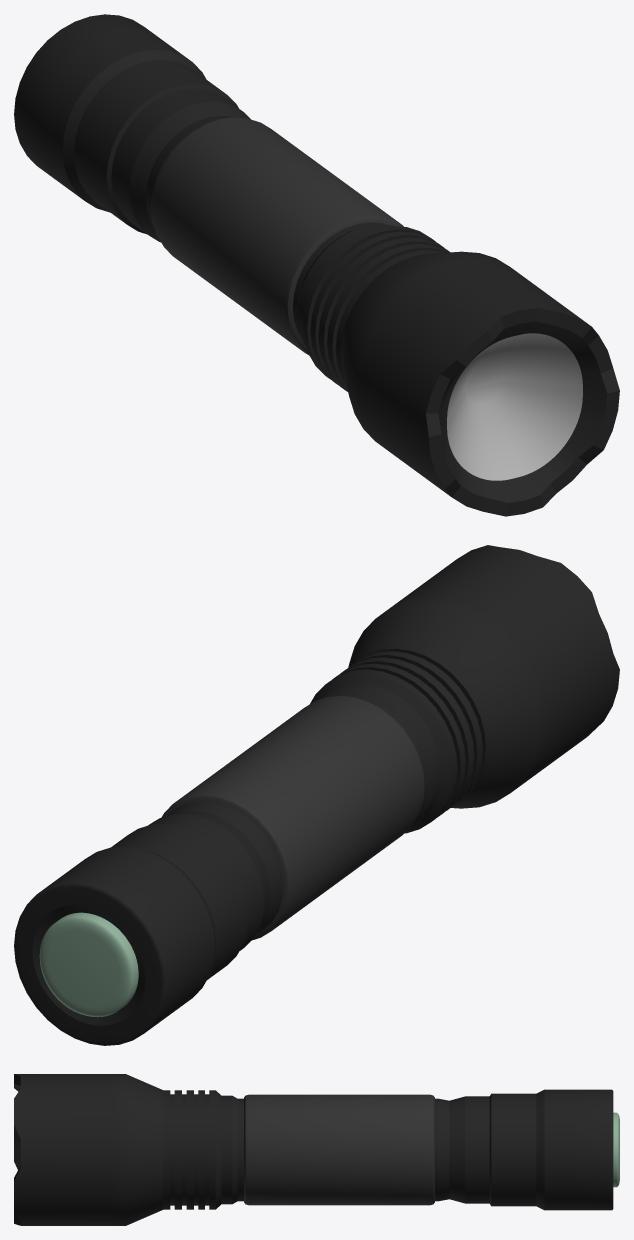
The model's file is 손전등.fbx.
3 views of the same model, one above another, from view 1: azimuth 30°, elevation 25°; view 2: azimuth 150°, elevation 25°; view 3: azimuth 270°, elevation 25° (orthographic). The views are drawn at different scales.
Parts seen in each view (by area): view 1: Cylinder, Cylinder.001, Plane; view 2: Cylinder, Cylinder.001, Cube; view 3: Cylinder, Cylinder.001, Cube.
Boxes of the visible parts, bbox=[...] form: Cylinder: bbox=[14, 14, 619, 516]; Cylinder.001: bbox=[151, 117, 403, 355]; Plane: bbox=[447, 333, 582, 480]; Cylinder: bbox=[14, 545, 619, 1045]; Cylinder.001: bbox=[161, 695, 424, 940]; Cube: bbox=[39, 912, 138, 1017]; Cylinder: bbox=[14, 1074, 613, 1225]; Cylinder.001: bbox=[244, 1094, 434, 1205]; Cube: bbox=[613, 1112, 619, 1187].
Size of the model in its own units: 201 by 201 by 802.
